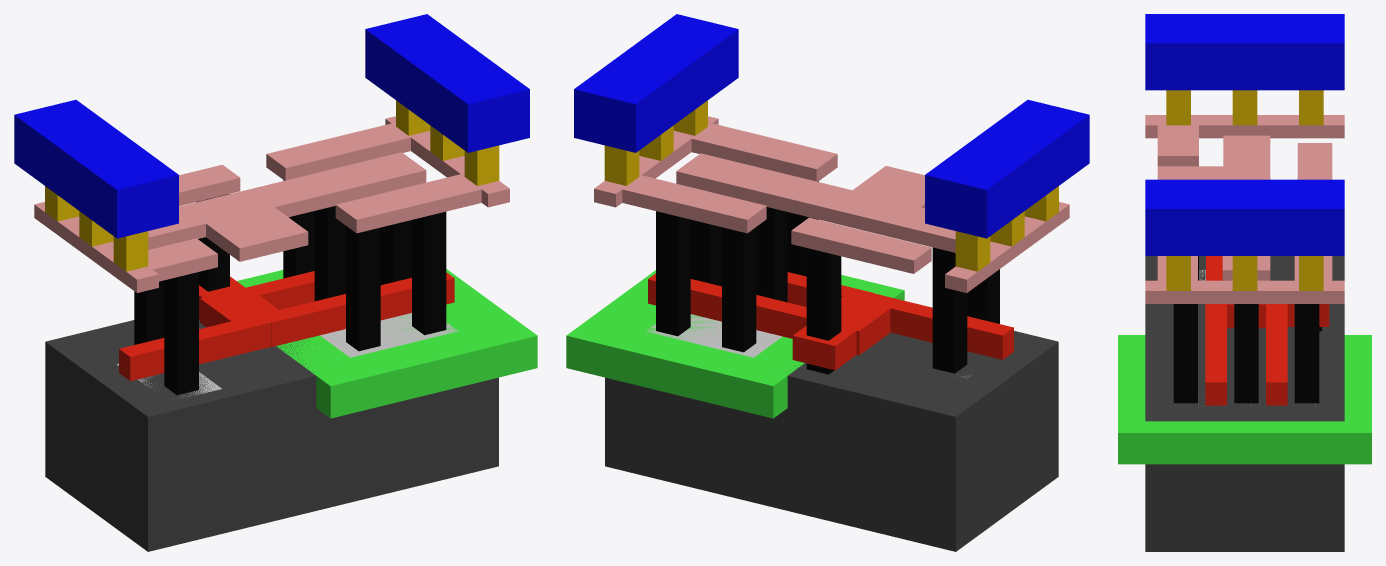
The model's file is sky130_fd_sc_hd__clkinv_1.obj.
3 views of the same model, side by side, from view 1: azimuth 30°, elevation 25°; view 2: azimuth 150°, elevation 25°; view 3: azimuth 270°, elevation 25° (orthographic). The views are drawn at different scales.
Parts seen in each view (by area): view 1: subs, li, metal1, licon, nwell, poly, mcon, tap; view 2: subs, li, metal1, licon, nwell, poly, mcon, tap; view 3: metal1, subs, nwell, li, licon, poly, mcon.
Part boxes in pixels (box(x1,y1,x2,y2)): subs: box(45, 319, 498, 551); li: box(34, 116, 509, 292); metal1: box(14, 14, 529, 238); licon: box(134, 180, 446, 395); nwell: box(237, 269, 537, 418); poly: box(119, 271, 454, 381); mcon: box(45, 100, 499, 271); tap: box(320, 313, 457, 357); subs: box(605, 331, 1058, 551); li: box(594, 116, 1069, 292); metal1: box(574, 14, 1089, 238); licon: box(656, 181, 999, 374); nwell: box(566, 270, 904, 418); poly: box(648, 272, 1013, 370); mcon: box(604, 100, 1058, 271); tap: box(646, 314, 782, 357); metal1: box(1145, 14, 1344, 255); subs: box(1145, 256, 1344, 551); nwell: box(1118, 335, 1371, 464); li: box(1145, 115, 1344, 303); licon: box(1173, 256, 1321, 403); poly: box(1205, 256, 1329, 405); mcon: box(1166, 90, 1323, 290).
Bounding box in the file's own units: 3.2 × 2.74 × 1.76.
